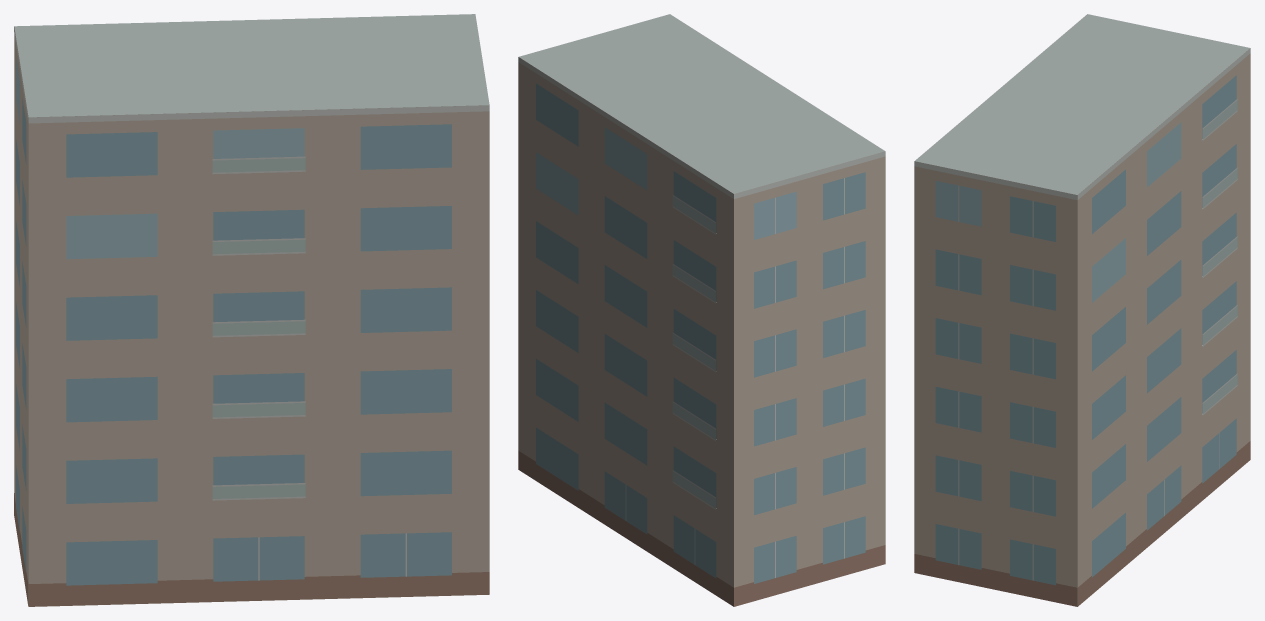
The model's file is survey-upis-32883553.glb.
3 views of the same model, side by side, from view 1: azimuth 30°, elevation 25°; view 2: azimuth 150°, elevation 25°; view 3: azimuth 270°, elevation 25° (orthographic). The views are drawn at different scales.
Parts seen in each view (by area): view 1: survey-upis-32883553.tmp; view 2: survey-upis-32883553.tmp; view 3: survey-upis-32883553.tmp.
Part boxes in pixels (x1=…): survey-upis-32883553.tmp: x1=14, y1=14, x2=489, y2=606; survey-upis-32883553.tmp: x1=518, y1=14, x2=885, y2=606; survey-upis-32883553.tmp: x1=914, y1=14, x2=1250, y2=606.
Bounding box in the file's own units: 18.4 × 19.5 × 14.43.
